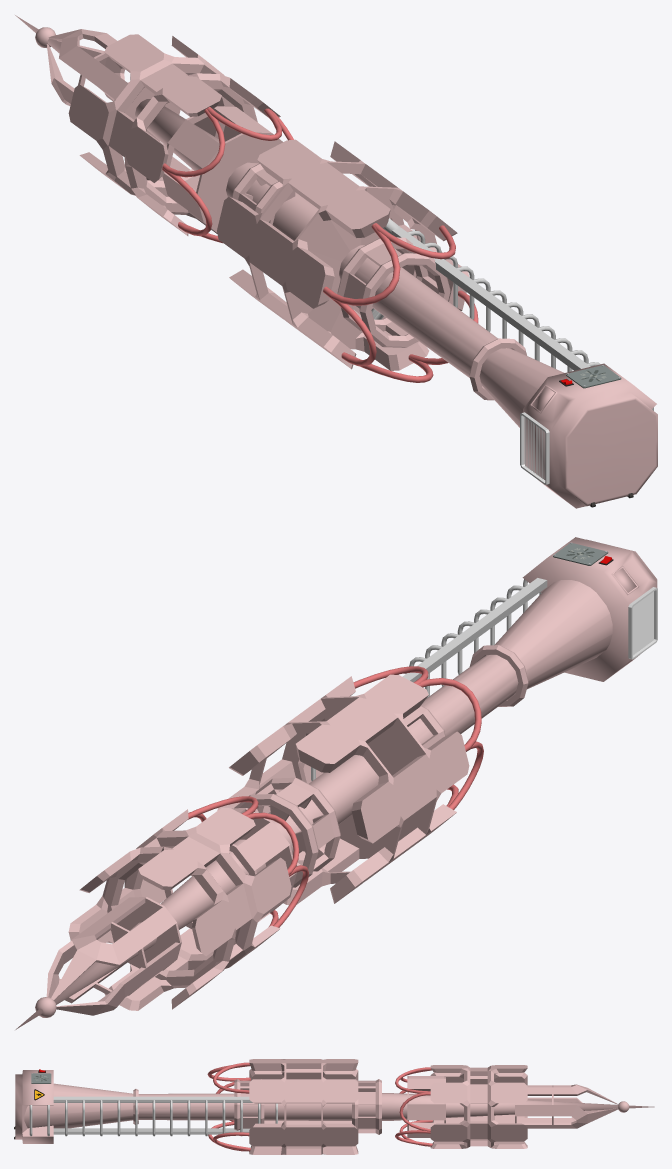
The model's file is BlueprintRadio.fbx.
3 renders of one model, top to bottom at view 1: azimuth 30°, elevation 25°; view 2: azimuth 150°, elevation 25°; view 3: azimuth 270°, elevation 25°, orthographic. The views are drawn at different scales.
Parts seen in each view (by area): view 1: BuildState4; view 2: BuildState4; view 3: BuildState4.
Part boxes in pixels (left/top/right/bottom): BuildState4: left=15, top=15, right=657, bottom=508; BuildState4: left=15, top=537, right=657, bottom=1029; BuildState4: left=14, top=1059, right=654, bottom=1154.
Size of the model in its own units: 410 by 410 by 2749.
